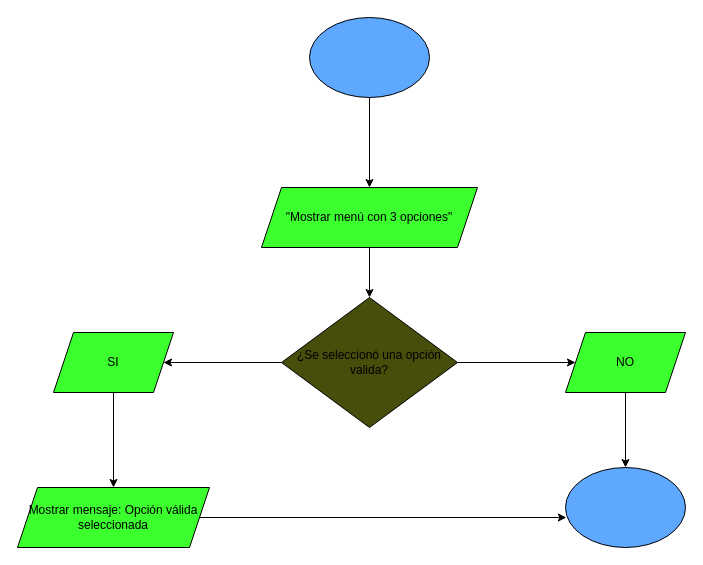
Image size: 703x565. Some labels were removed from this diagram. Each missing label, with the centre of its shape:
FIN: pixel 625 507
INICIO: pixel 369 57
